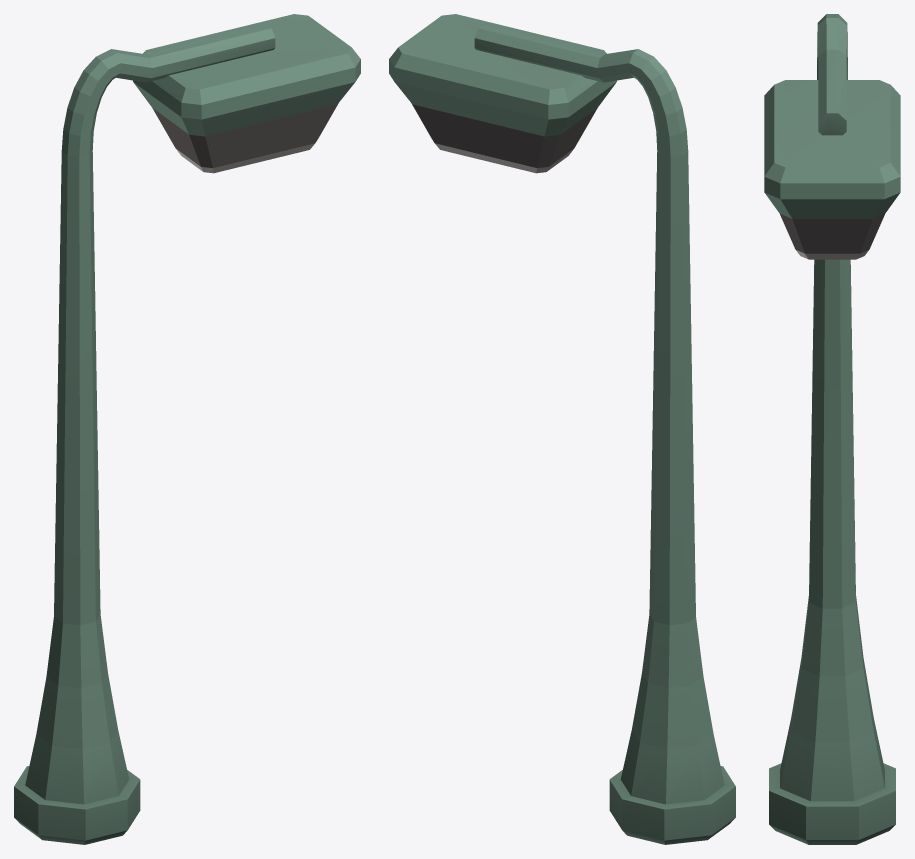
File: lamp.glb
3 views of the same model, side by side, from view 1: azimuth 30°, elevation 25°; view 2: azimuth 150°, elevation 25°; view 3: azimuth 270°, elevation 25° (orthographic). The views are drawn at different scales.
Parts seen in each view (by area): view 1: lamp; view 2: lamp; view 3: lamp.
Boxes of the visible parts, x1,y1,x2,y2 form: lamp: (14, 14, 360, 844); lamp: (389, 14, 735, 844); lamp: (764, 14, 900, 844).
Bounding box in the file's own units: 2.56 × 6 × 0.9.
